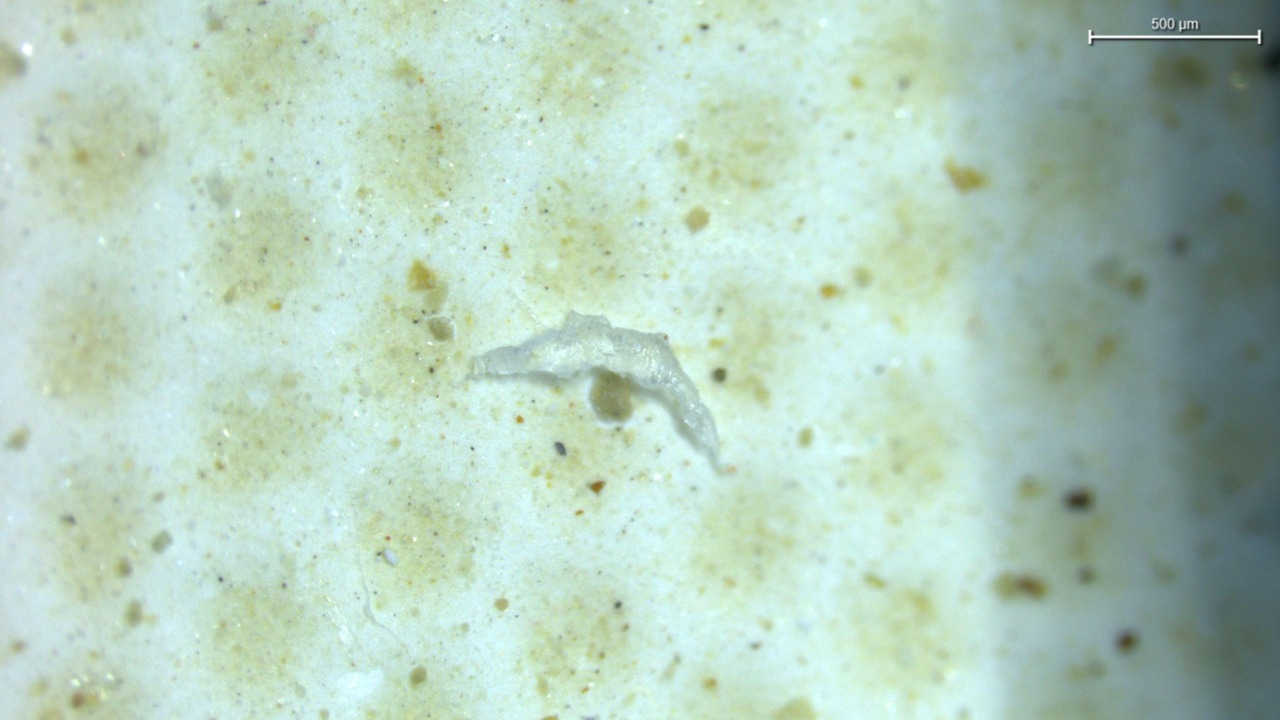microplastic_fragment: (473, 312, 721, 467)
